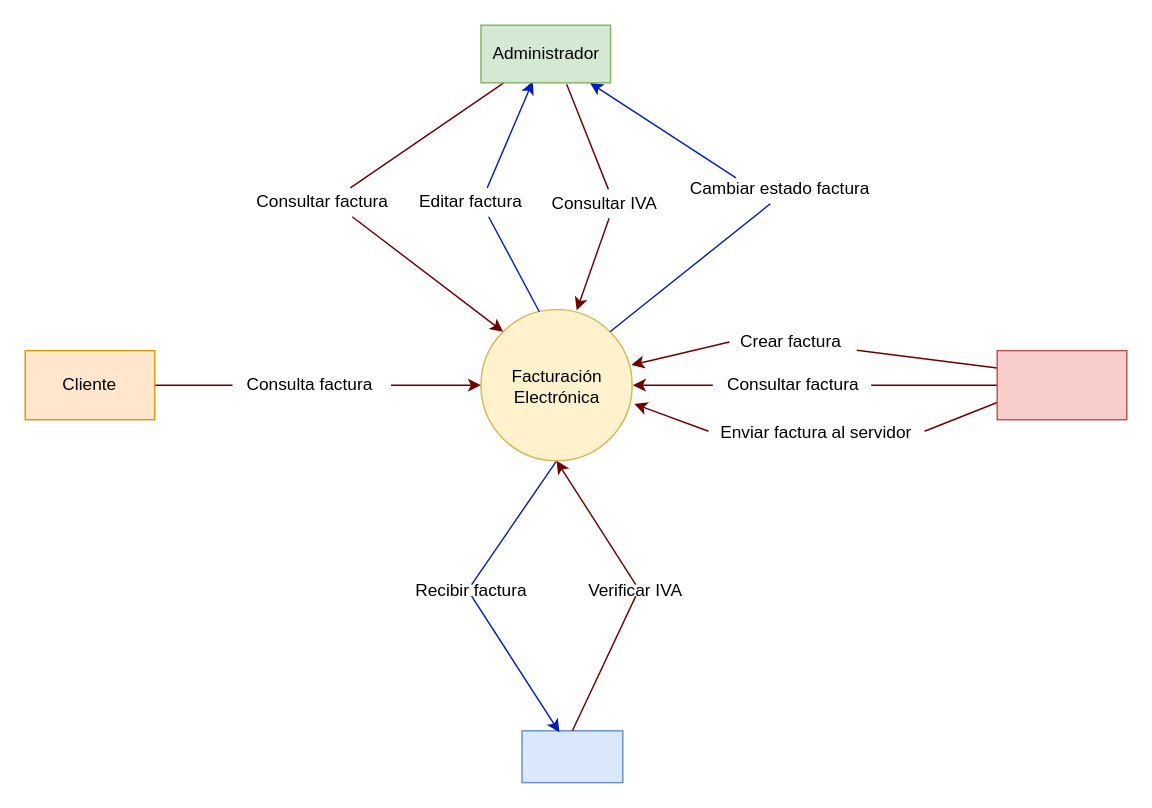
The diagram is 1152 pixels wide and 808 high, and some of its shapes have lost their labels. The centre of each missing label's shape, as x and y in pixels:
"DIAN" goes at [572,756].
"Vendedor" goes at [1061,384].
